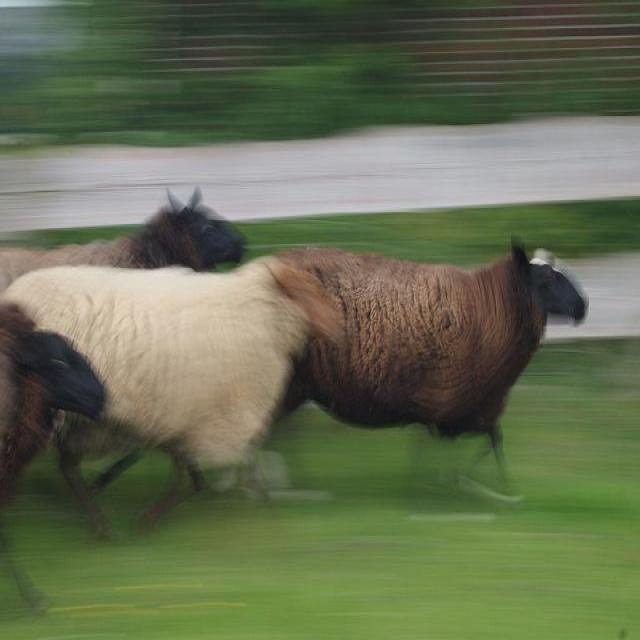Sheep: (2, 249, 351, 535), (263, 240, 590, 497), (1, 187, 252, 285)
